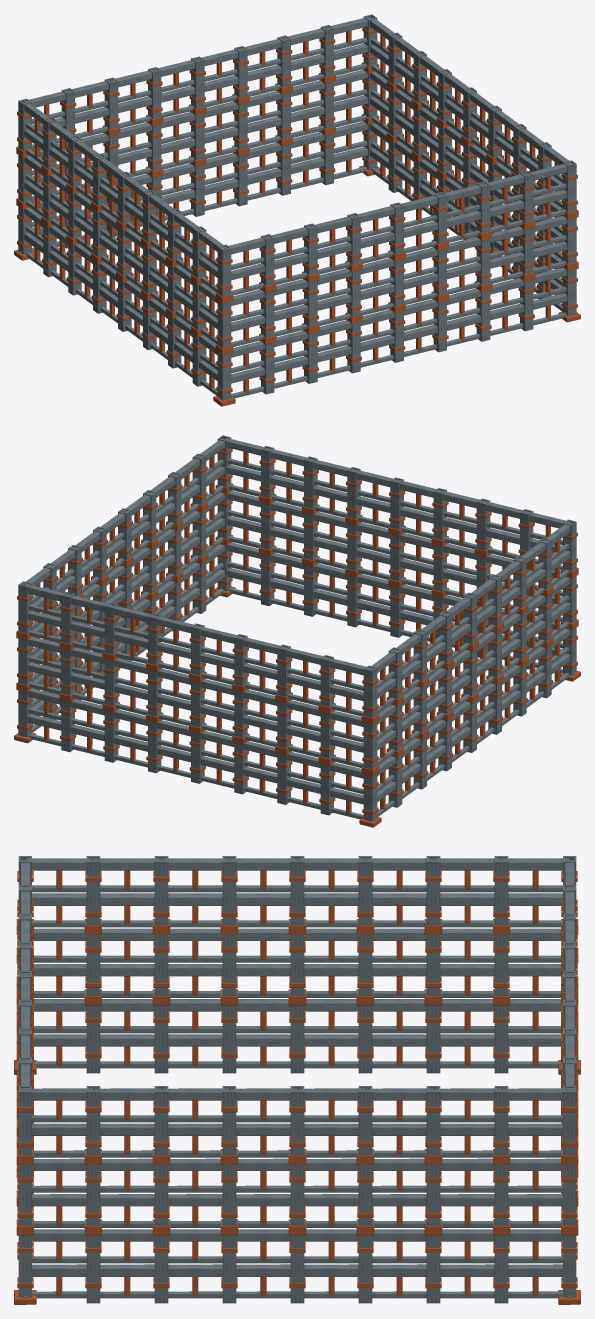
3 renders of one model, top to bottom at view 1: azimuth 30°, elevation 25°; view 2: azimuth 150°, elevation 25°; view 3: azimuth 270°, elevation 25°, orthographic. The views are drawn at different scales.
Visible parts, largest first — view 1: Tier 2 side 0 post 0, Tier 0 side 0 post 0, Tier 1 side 0 post 0, Tier 2 side 2 post 6, Tier 2 side 0 post 6, Tier 0 side 0 post 6, Tier 2 side 2 post 5, Tier 2 side 0 post 1, Tier 2 side 0 post 7, Tier 2 side 2 post 3, Tier 2 side 0 post 3, Tier 2 side 2 post 4 (+16 smaller); view 2: Tier 2 side 3 post 0, Tier 0 side 3 post 0, Tier 1 side 3 post 0, Tier 2 side 0 post 2, Tier 2 side 2 post 2, Tier 0 side 2 post 2, Tier 2 side 0 post 3, Tier 2 side 2 post 1, Tier 2 side 2 post 7, Tier 2 side 0 post 5, Tier 2 side 2 post 0, Tier 2 side 2 post 6 (+16 smaller); view 3: Tier 2 side 1 post 1, Tier 2 side 1 post 2, Tier 2 side 1 post 3, Tier 2 side 1 post 4, Tier 2 side 1 post 5, Tier 2 side 1 post 6, Tier 2 side 1 post 7, Tier 2 side 3 post 1, Tier 2 side 3 post 2, Tier 2 side 3 post 3, Tier 2 side 3 post 4, Tier 2 side 3 post 5 (+132 smaller).
Boxes of the visible parts, <box> form: Tier 2 side 0 post 0: <box>217,244,231,296</box>; Tier 0 side 0 post 0: <box>217,353,231,400</box>; Tier 1 side 0 post 0: <box>217,301,231,348</box>; Tier 2 side 2 post 6: <box>104,77,118,129</box>; Tier 2 side 0 post 6: <box>476,181,490,233</box>; Tier 0 side 0 post 6: <box>476,290,490,341</box>; Tier 2 side 2 post 5: <box>148,67,161,119</box>; Tier 2 side 0 post 1: <box>261,234,274,286</box>; Tier 2 side 0 post 7: <box>520,171,533,222</box>; Tier 2 side 2 post 3: <box>234,46,247,98</box>; Tier 2 side 0 post 3: <box>347,213,360,265</box>; Tier 2 side 2 post 4: <box>191,56,204,108</box>; Tier 2 side 3 post 0: <box>363,665,377,717</box>; Tier 0 side 3 post 0: <box>363,774,377,821</box>; Tier 1 side 3 post 0: <box>363,722,377,769</box>; Tier 2 side 0 post 2: <box>476,498,490,550</box>; Tier 2 side 2 post 2: <box>104,602,118,654</box>; Tier 0 side 2 post 2: <box>104,711,118,762</box>; Tier 2 side 0 post 3: <box>433,488,446,540</box>; Tier 2 side 2 post 1: <box>61,592,74,643</box>; Tier 2 side 2 post 7: <box>320,655,333,707</box>; Tier 2 side 0 post 5: <box>347,467,360,519</box>; Tier 2 side 2 post 0: <box>18,581,31,633</box>; Tier 2 side 2 post 6: <box>277,644,290,696</box>; Tier 2 side 1 post 1: <box>86,1086,100,1155</box>; Tier 2 side 1 post 2: <box>154,1086,168,1155</box>; Tier 2 side 1 post 3: <box>222,1086,236,1155</box>; Tier 2 side 1 post 4: <box>290,1086,304,1155</box>; Tier 2 side 1 post 5: <box>358,1086,372,1155</box>; Tier 2 side 1 post 6: <box>426,1086,440,1155</box>; Tier 2 side 1 post 7: <box>494,1086,508,1155</box>; Tier 2 side 3 post 1: <box>494,856,508,925</box>; Tier 2 side 3 post 2: <box>426,856,440,925</box>; Tier 2 side 3 post 3: <box>358,856,372,925</box>; Tier 2 side 3 post 4: <box>290,856,304,925</box>; Tier 2 side 3 post 5: <box>222,856,236,925</box>.
Bounding box in the file's own units: 3.75 × 1.54 × 3.75.
Materials: 2 (2 with a texture image).
